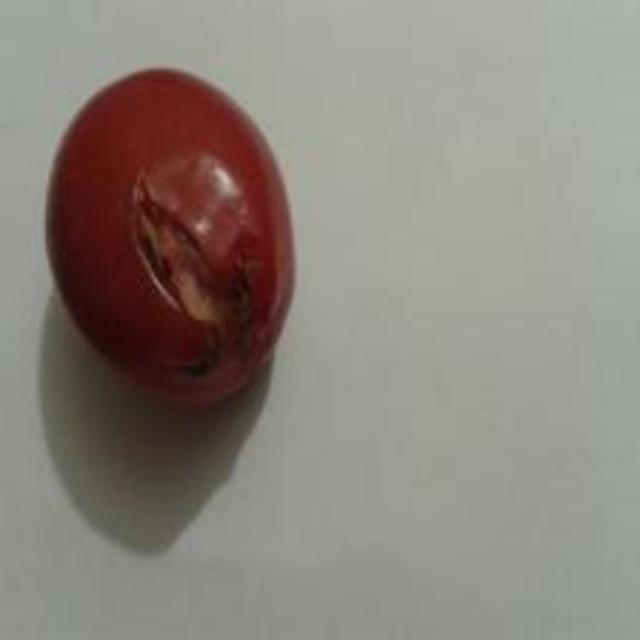defect: (40, 64, 304, 416)
